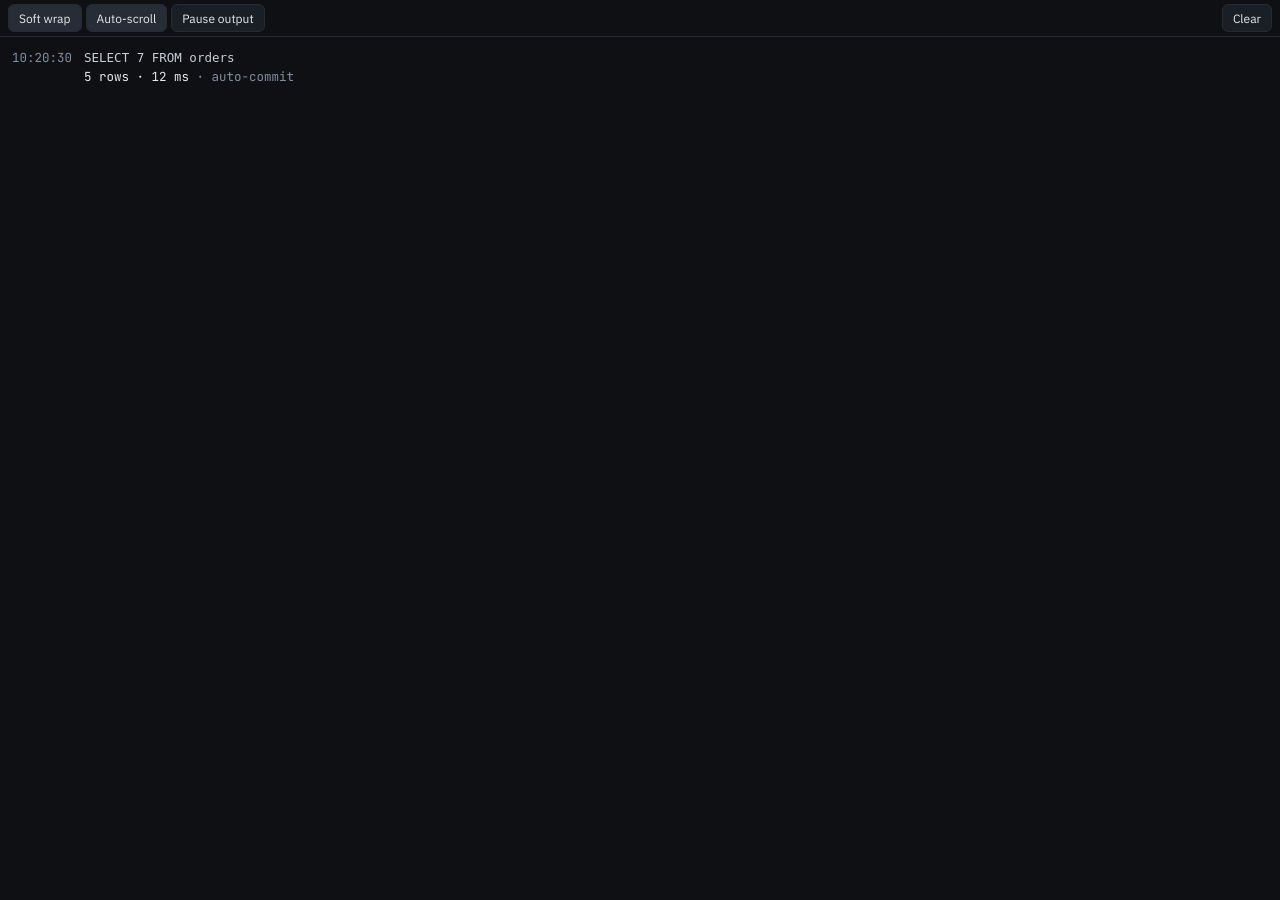
it: Output tab tools (spec: sql-console › Output tab tools) › Compare with clipboard shows what differs
The width and height of the screenshot is (1280, 900).
Right-click the text "SELECT 7 FROM orders" at (159, 58), box [84, 50, 234, 65]
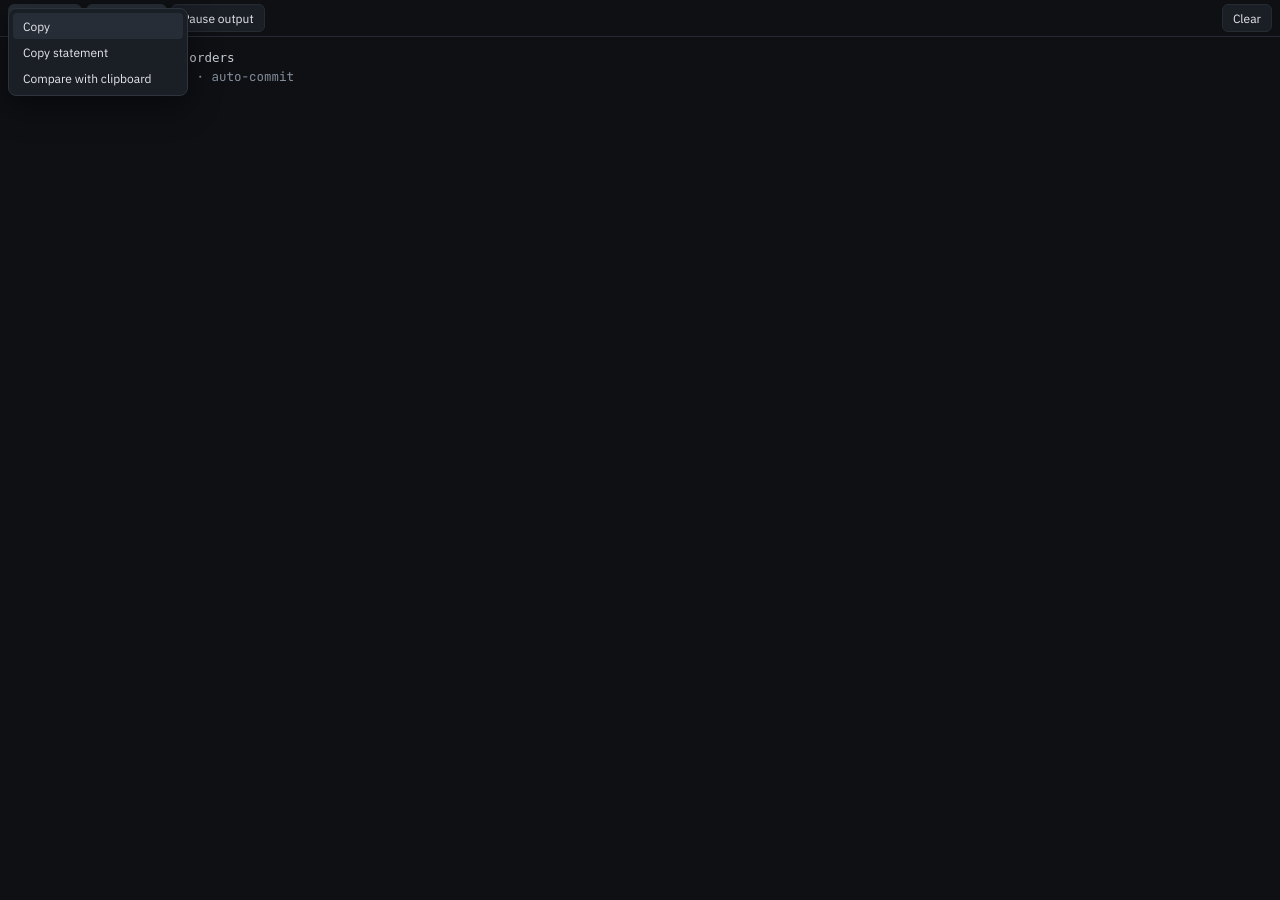
Click the menu item "Compare with clipboard" at (98, 78), box [13, 65, 183, 91]
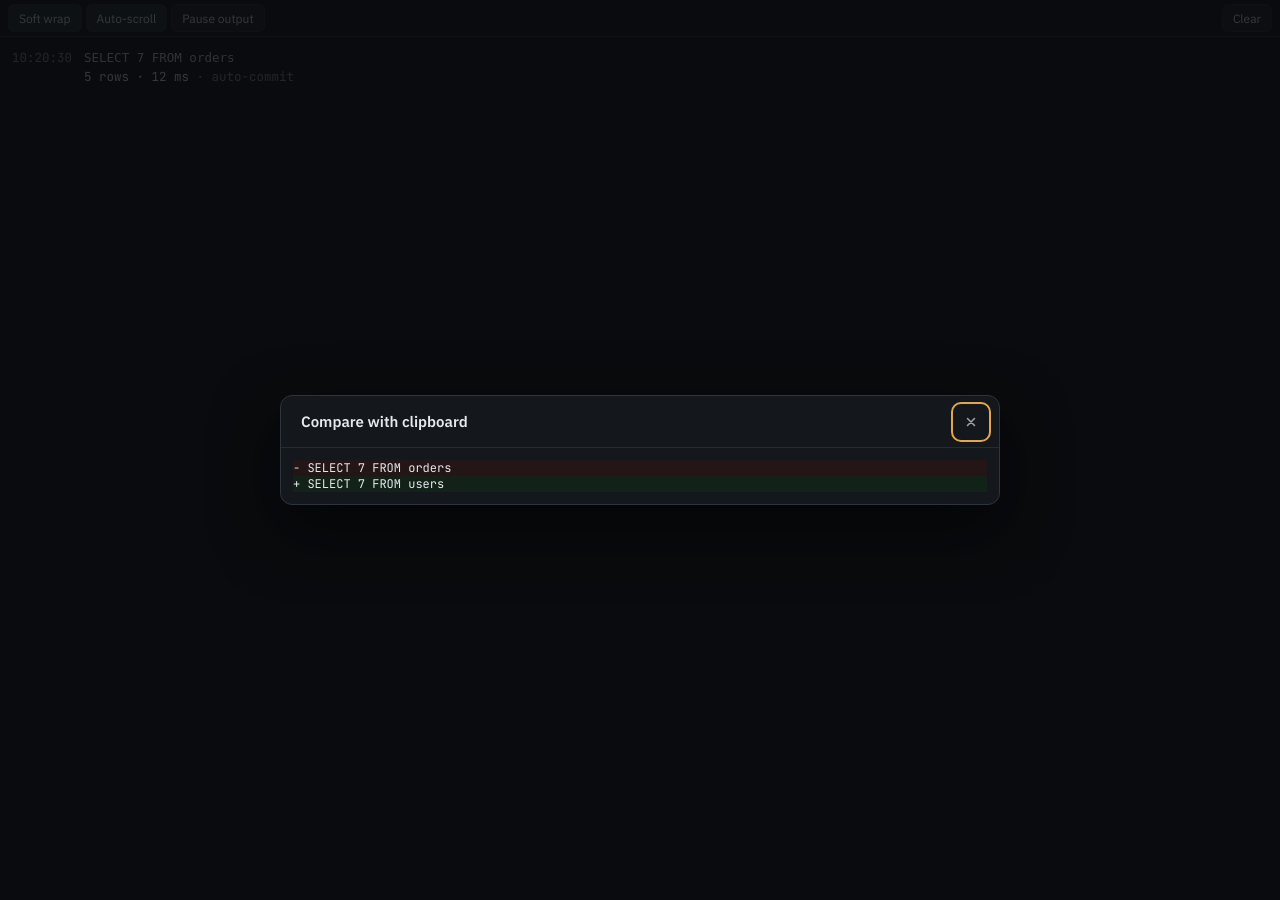
Result: the element named "Differences" shows "SELECT 7 FROM users" at [307, 476, 444, 492]
Result: the element named "Differences" shows "SELECT 7 FROM orders" at [307, 460, 451, 476]
